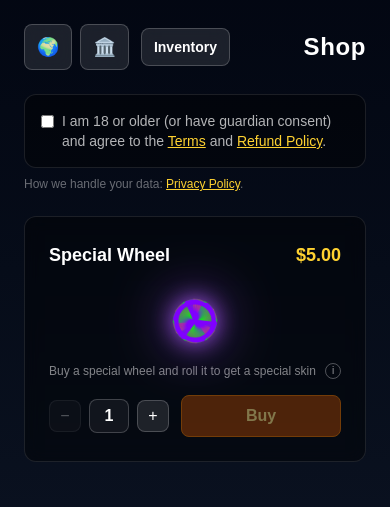
Test case: ShopPage › a generic checkout error shows the server message inline
Click the checkbox.
click(48, 122)  # box [41,115,54,128]
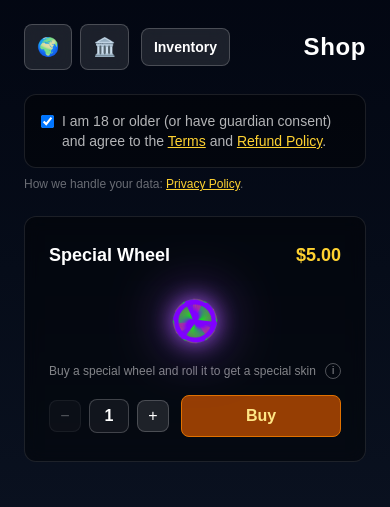
Click the button "Buy".
click(261, 416)  # box [181,395,341,437]
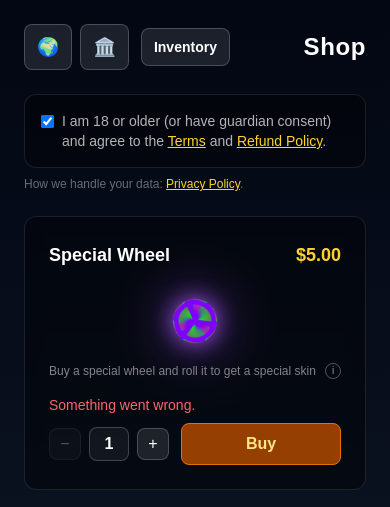
Check: the text "Something went wrong." is shown, box [49,397,195,413]
